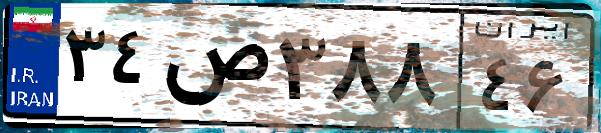3: (270, 28, 330, 110), (57, 26, 110, 100)
4: (475, 38, 525, 113), (110, 28, 158, 98)
6: (525, 38, 570, 115)
8: (385, 28, 445, 110), (330, 28, 385, 110)
ص: (158, 20, 270, 120)
